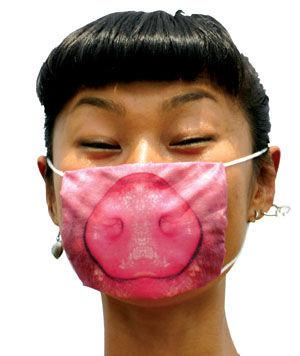OK: (59, 107, 252, 300)
